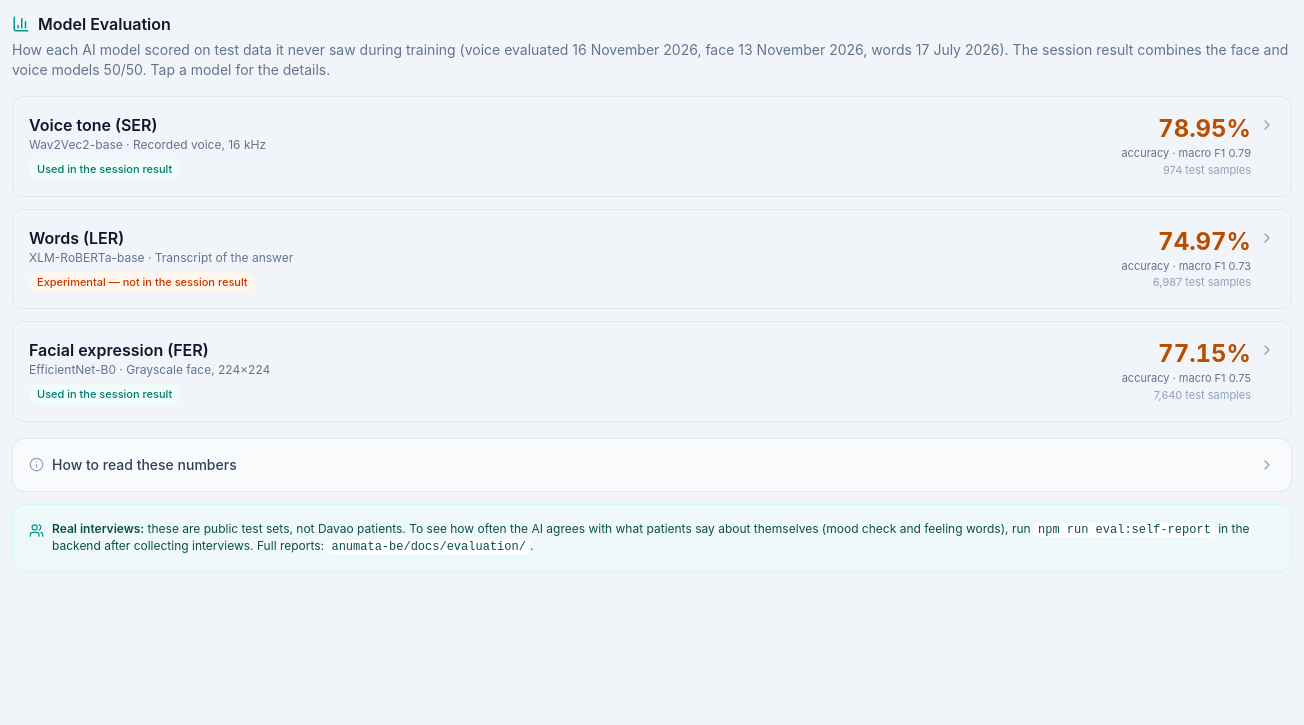
it: ModelEvaluation panel › shows each model's accuracy, and details on tap
The width and height of the screenshot is (1304, 725).
expect the text "78.95%" is shown: met, box left=1158, top=114, right=1251, bottom=143
expect the text "74.97%" is shown: met, box left=1158, top=226, right=1251, bottom=256
Click the button "Facial expression (FER)" at [119, 350], box left=29, top=338, right=1275, bottom=404
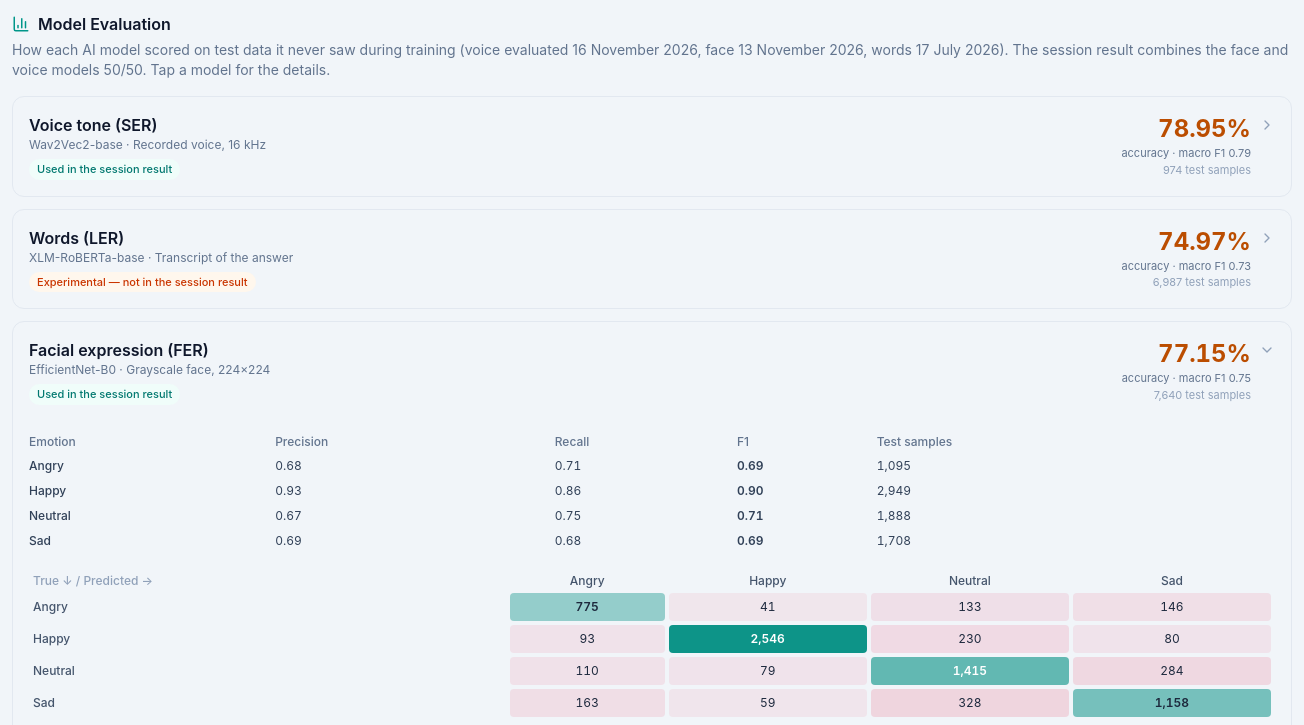
expect the table named "Facial expression (FER) confusion matrix" is shown: met, box left=29, top=568, right=1275, bottom=720
expect the text "2,546" is shown: met, box left=669, top=624, right=867, bottom=652
